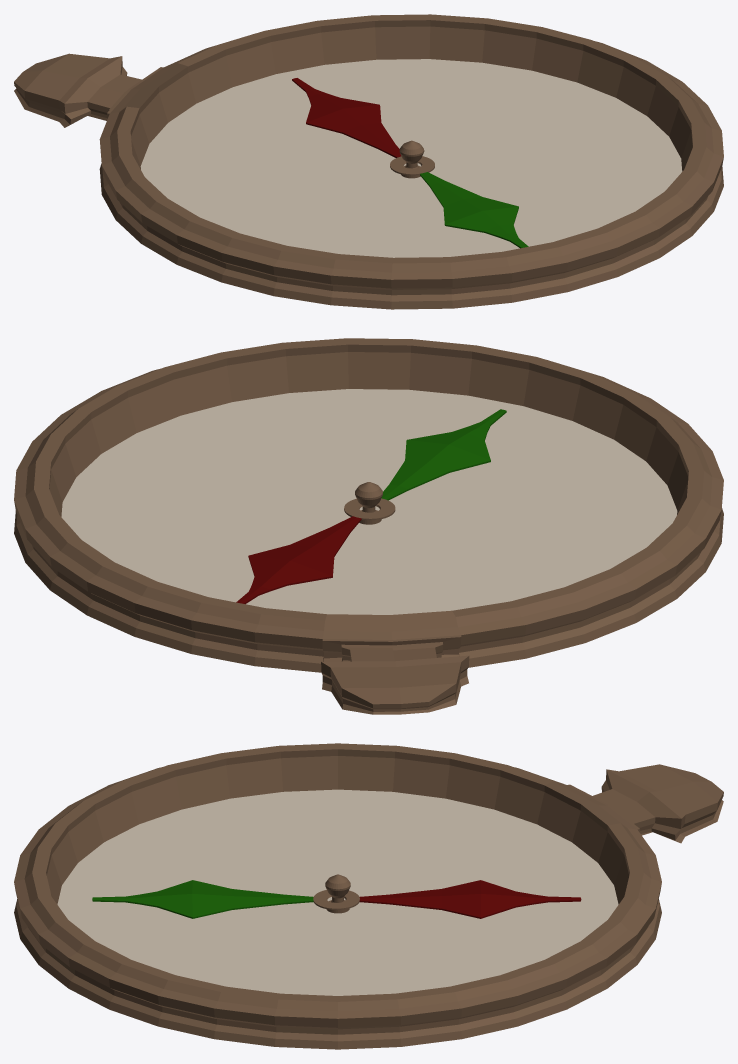
The model's file is kompassi1.fbx.
The picture shows the model from 3 angles, top to bottom: view 1: azimuth 30°, elevation 25°; view 2: azimuth 150°, elevation 25°; view 3: azimuth 270°, elevation 25°; orthographic projection. The views are drawn at different scales.
Parts seen in each view (by area): view 1: Cylinder, Cylinder.004; view 2: Cylinder, Cylinder.004; view 3: Cylinder, Cylinder.004.
Part boxes in pixels (x1,y1,x2,y2): Cylinder: [14, 14, 723, 309]; Cylinder.004: [292, 78, 528, 248]; Cylinder: [14, 338, 723, 714]; Cylinder.004: [236, 409, 506, 604]; Cylinder: [14, 743, 723, 1049]; Cylinder.004: [92, 880, 581, 918].
Size of the model in its own units: 200 by 13.63 by 219.
